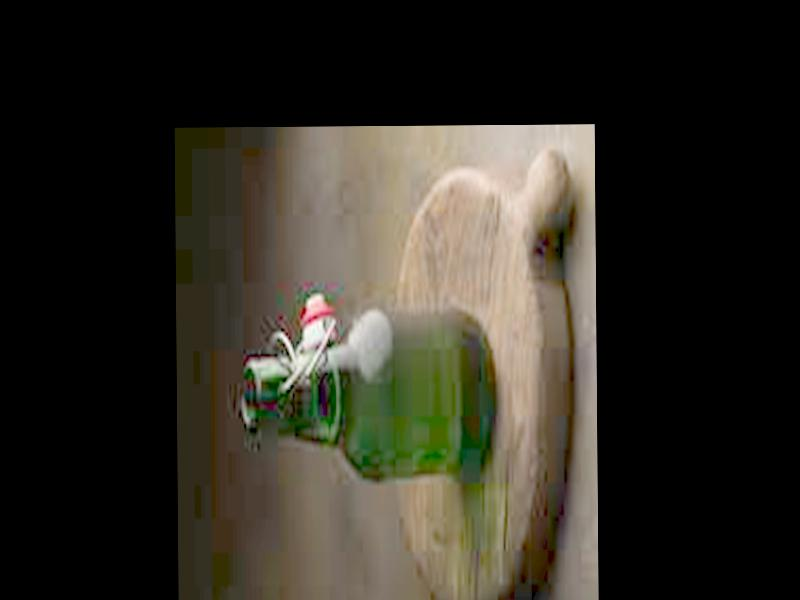Beer: (237, 310, 490, 476)
